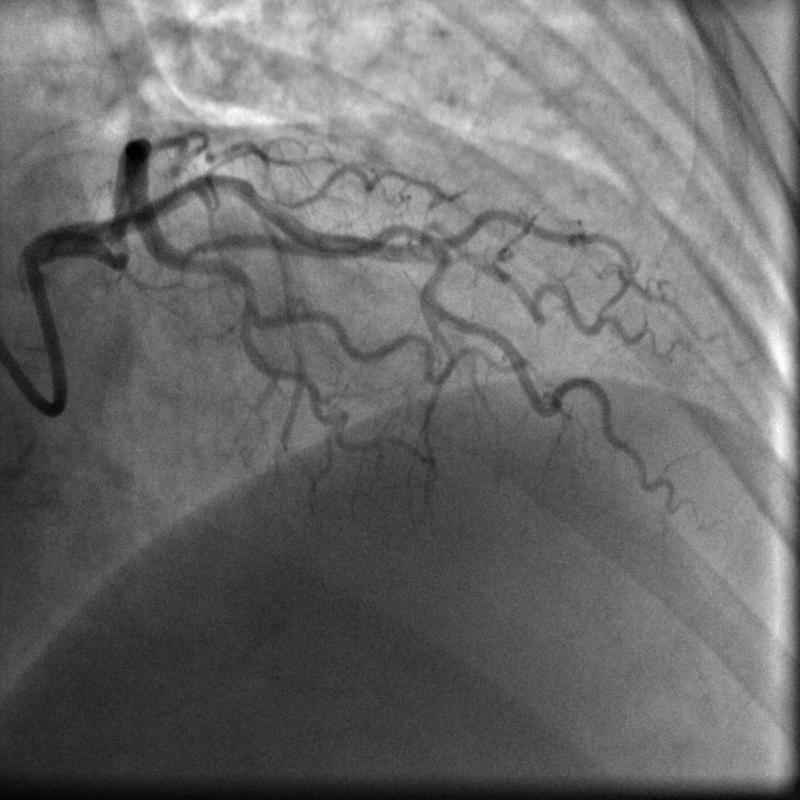Stenosis: (100, 211, 133, 266)
